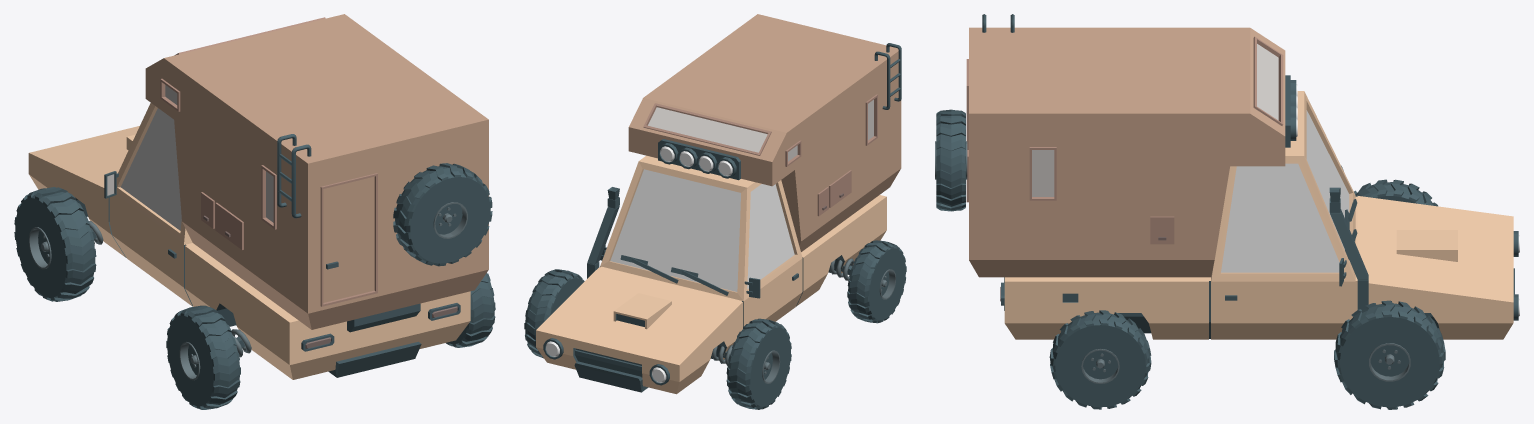
The model's file is Truck 1.fbx.
The picture shows the model from 3 angles, left to right: view 1: azimuth 30°, elevation 25°; view 2: azimuth 150°, elevation 25°; view 3: azimuth 270°, elevation 25°; orthographic projection. The views are drawn at different scales.
Parts seen in each view (by area): view 1: Frame, Rear_wheel.001, Front_wheel.001, Front_wheel; view 2: Frame, Rear_wheel.001, Front_wheel.001, Rear_wheel; view 3: Frame, Rear_wheel, Front_wheel, Rear_wheel.001.
Part boxes in pixels (x1,y1,x2,y2): Frame: (28,14,492,379); Rear_wheel.001: (14,187,96,301); Front_wheel.001: (166,305,240,409); Front_wheel: (446,273,495,347); Frame: (536,14,901,394); Rear_wheel.001: (726,318,791,409); Front_wheel.001: (847,240,906,323); Rear_wheel: (524,269,584,358); Frame: (935,14,1519,339); Rear_wheel: (1334,300,1445,409); Front_wheel: (1049,310,1151,409); Rear_wheel.001: (1354,179,1437,206).
Size of what is drawn, in the model's own units: 316 by 310 by 575.
